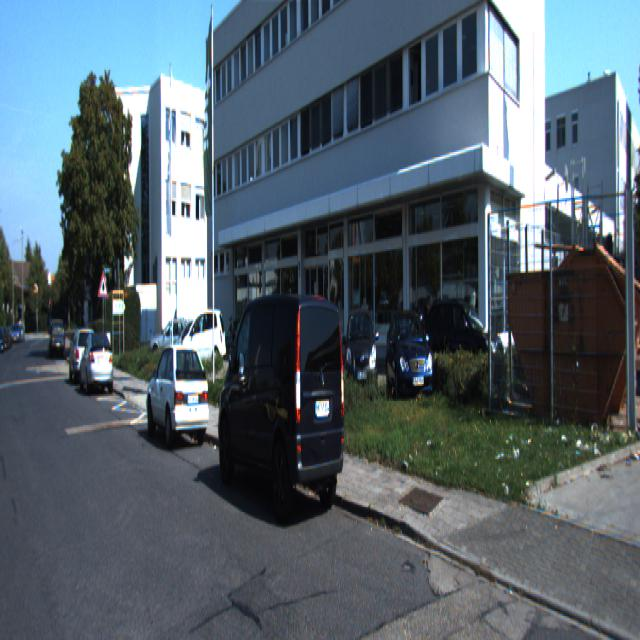Car: (213, 280, 347, 536), (142, 338, 210, 452), (385, 306, 435, 418), (340, 301, 377, 409), (178, 305, 226, 374), (44, 318, 60, 361)
